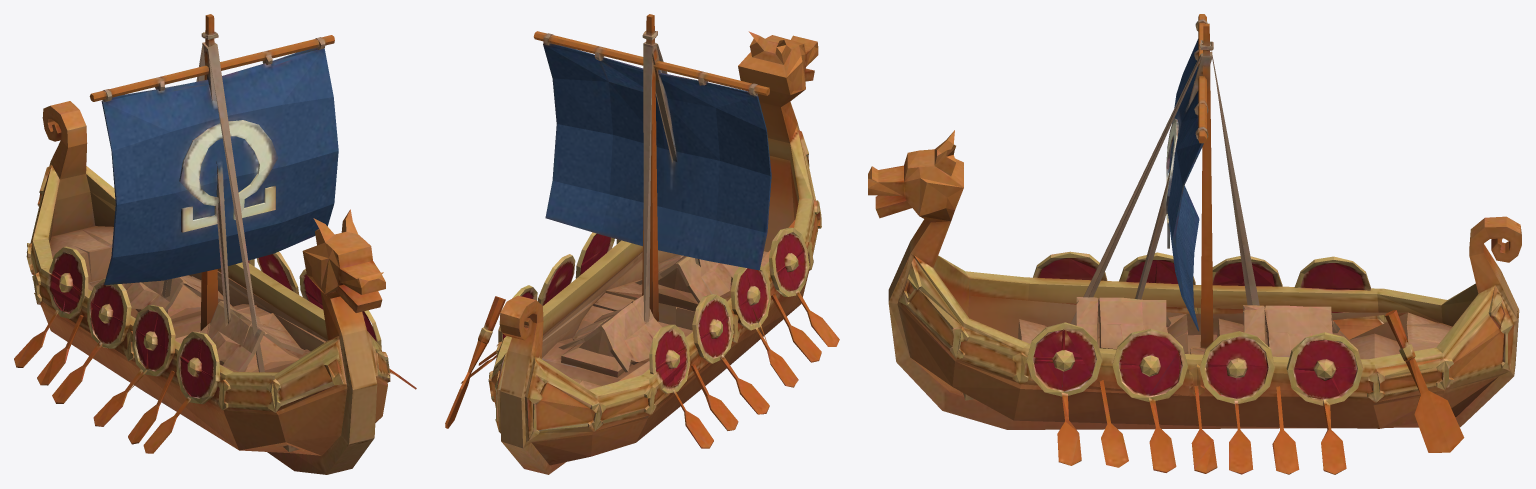
The model's file is player.glb.
3 views of the same model, side by side, from view 1: azimuth 30°, elevation 25°; view 2: azimuth 150°, elevation 25°; view 3: azimuth 270°, elevation 25° (orthographic). The views are drawn at different scales.
Visible parts, largest first — view 1: tripo_node_24ae336d-032b-4cee-858b-15eccd46f794; view 2: tripo_node_24ae336d-032b-4cee-858b-15eccd46f794; view 3: tripo_node_24ae336d-032b-4cee-858b-15eccd46f794.
Boxes of the visible parts, x1,y1,x2,y2 form: tripo_node_24ae336d-032b-4cee-858b-15eccd46f794: [14, 14, 416, 474]; tripo_node_24ae336d-032b-4cee-858b-15eccd46f794: [445, 14, 839, 474]; tripo_node_24ae336d-032b-4cee-858b-15eccd46f794: [868, 14, 1521, 474].
Bounding box in the file's own units: 0.5098 × 0.6699 × 0.998.
Materials: 1 (1 with a texture image).
